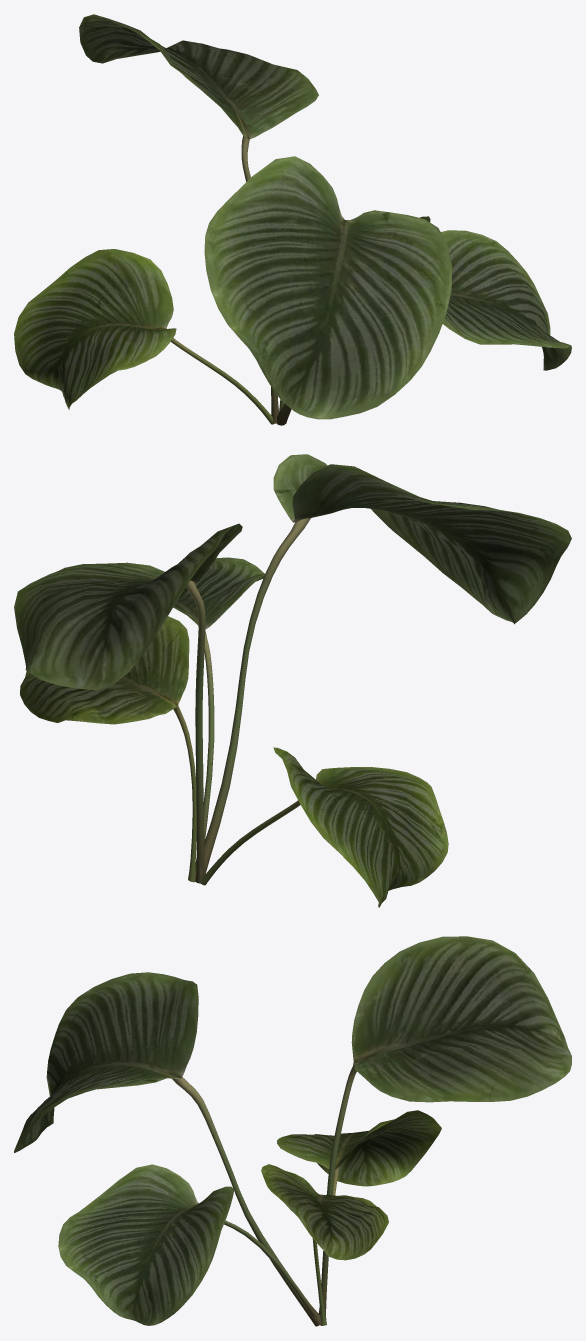
The model's file is calathea_orbifolia_01.glb.
3 views of the same model, one above another, from view 1: azimuth 30°, elevation 25°; view 2: azimuth 150°, elevation 25°; view 3: azimuth 270°, elevation 25° (orthographic). The views are drawn at different scales.
Visible parts, largest first — view 1: calathea_orbifolia_01_b; view 2: calathea_orbifolia_01_b; view 3: calathea_orbifolia_01_b.
Boxes of the visible parts, left/top/right/bottom form: calathea_orbifolia_01_b: left=14, top=14, right=571, bottom=425; calathea_orbifolia_01_b: left=14, top=454, right=571, bottom=907; calathea_orbifolia_01_b: left=14, top=936, right=571, bottom=1326.
Bounding box in the file's own units: 0.3474 × 0.3032 × 0.4403.
Materials: 1 (1 with a texture image).
